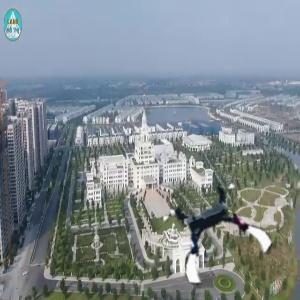drone: (170, 185, 268, 283)
